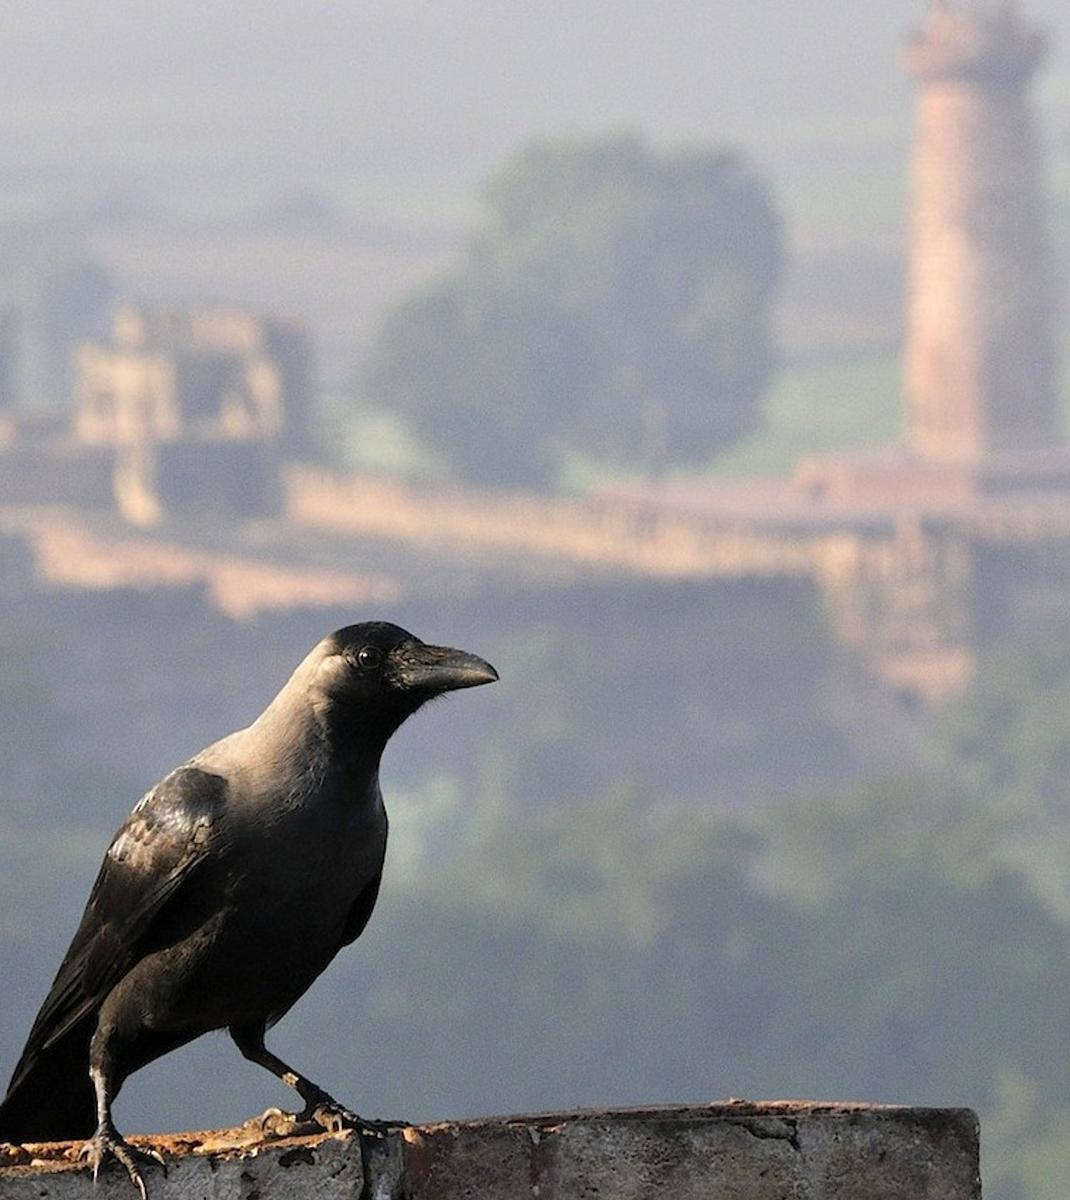crow: (1, 585, 522, 1199)
